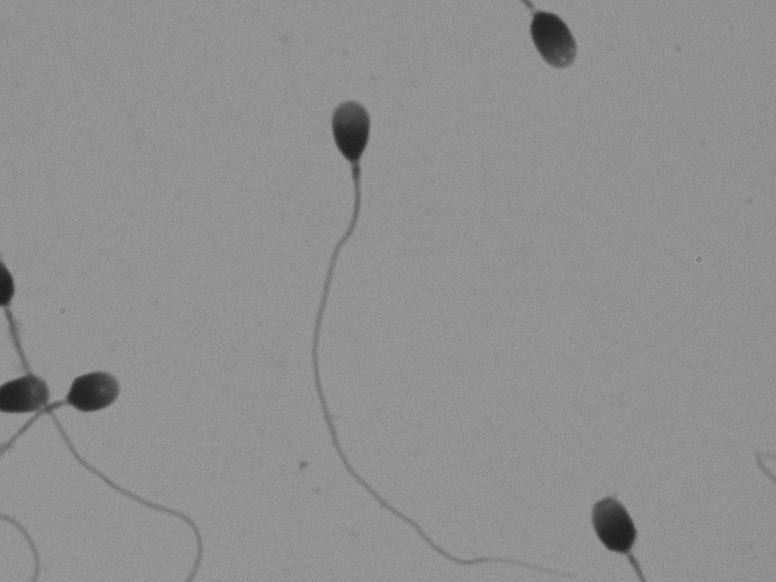Normal: (247, 86, 446, 549)
